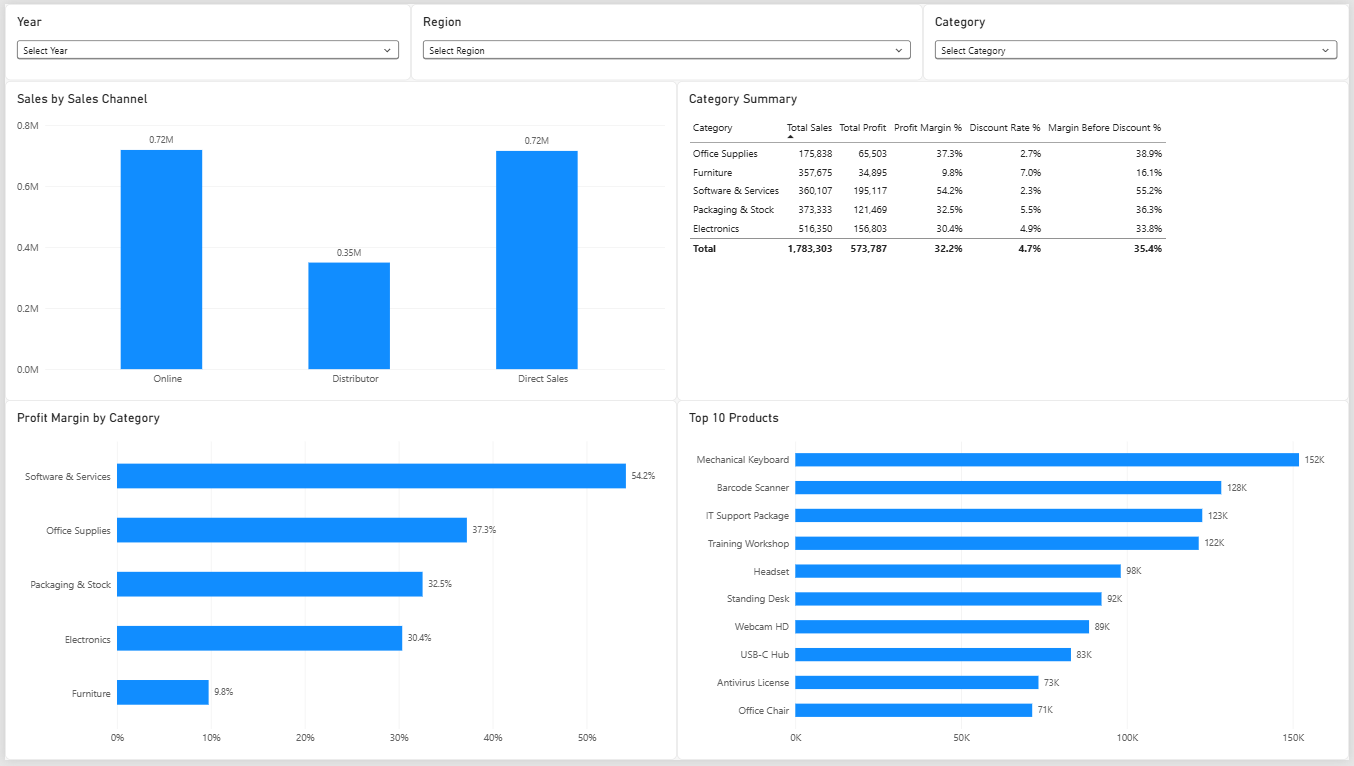

This screenshot's page, from the dashboard's own definition file:
{"tool":"powerbi","page":{"name":"Product & Profit","canvas":[1920,1080],"ordinal":1},"visuals":[{"type":"listSlicer","fields":{"Values":["Date.Year"]},"box":[0,0,580,109.4],"z":0},{"type":"listSlicer","fields":{"Values":["Customers.Region"]},"box":[580,0,731.4,109.4],"z":1000},{"type":"listSlicer","fields":{"Values":["Products.Category"]},"box":[1311.5,0,608.5,109.4],"z":2000},{"type":"clusteredBarChart","title":"Top 10 Products","fields":{"Category":["Products.Product Name"],"Y":["Sales.Total Sales"]},"box":[960,566.1,960,513.6],"z":3000},{"type":"clusteredBarChart","title":"Profit Margin by Category","fields":{"Category":["Products.Category"],"Y":["Sales.Profit Margin %"]},"box":[0,566.1,960,513.6],"z":4000},{"type":"tableEx","title":"Category Summary","fields":{"Values":["Products.Category","Sales.Total Sales","Sales.Total Profit","Sales.Profit Margin %","Sales.Discount Rate %","Sales.Margin Before Discount %"]},"box":[960,109.4,960,456.7],"z":5000},{"type":"clusteredColumnChart","title":"Sales by Sales Channel","fields":{"Category":["Sales.Sales Channel"],"Y":["Sales.Total Sales"]},"box":[0,109.4,960,456.7],"z":6000}]}

Visuals, with their boxes in screenshot pixels (x1, y1, x2, y2), scaled from the page's 1920x1080 canvas onto the 1354x766 screenshot:
listSlicer - Date.Year: bbox(0, 0, 409, 78)
listSlicer - Customers.Region: bbox(409, 0, 925, 78)
listSlicer - Products.Category: bbox(925, 0, 1353, 78)
"Top 10 Products" clusteredBarChart: bbox(677, 402, 1353, 765)
"Profit Margin by Category" clusteredBarChart: bbox(0, 402, 677, 765)
"Category Summary" tableEx: bbox(677, 78, 1353, 402)
"Sales by Sales Channel" clusteredColumnChart: bbox(0, 78, 677, 402)
